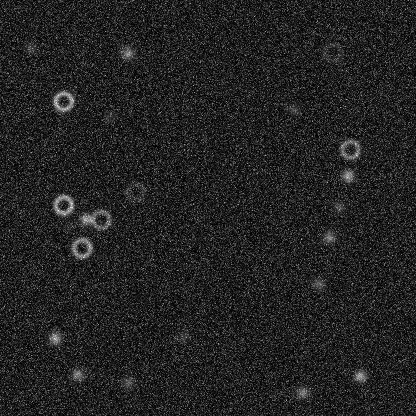Ring: (69, 235, 93, 259), (88, 207, 112, 231), (338, 137, 362, 161), (51, 192, 75, 216), (320, 40, 344, 64), (51, 89, 75, 113), (123, 179, 147, 203)
Spot: (69, 366, 85, 382), (330, 198, 346, 214), (294, 384, 310, 400), (119, 374, 135, 390), (22, 39, 38, 55), (47, 330, 63, 346), (175, 327, 191, 343), (119, 45, 135, 61), (77, 211, 93, 227), (102, 108, 118, 124), (320, 229, 336, 245), (285, 101, 301, 117), (60, 218, 76, 234), (352, 367, 368, 383), (339, 167, 355, 183), (310, 275, 326, 291)
